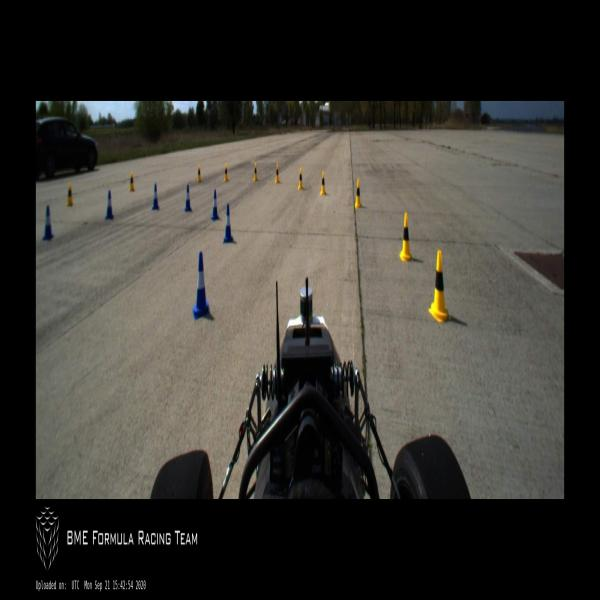blue_cone: (193, 254, 209, 320), (223, 204, 233, 243), (43, 206, 53, 240), (211, 189, 219, 221), (184, 183, 192, 212), (106, 190, 113, 220), (152, 184, 159, 210)
yellow_cone: (429, 251, 451, 322), (399, 212, 412, 261), (354, 179, 362, 208), (320, 171, 326, 195), (67, 183, 73, 206), (274, 163, 280, 183), (129, 172, 135, 191), (298, 168, 303, 190), (196, 164, 202, 182), (253, 162, 258, 182), (224, 164, 228, 182)
